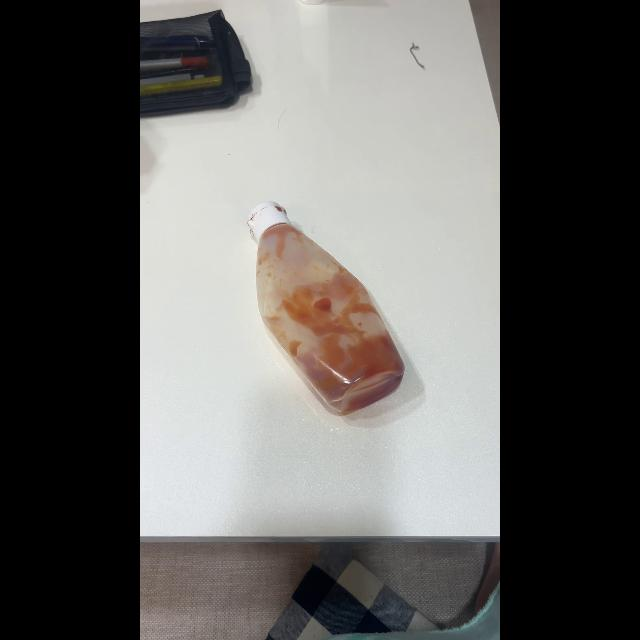dirty: (256, 208, 402, 414)
